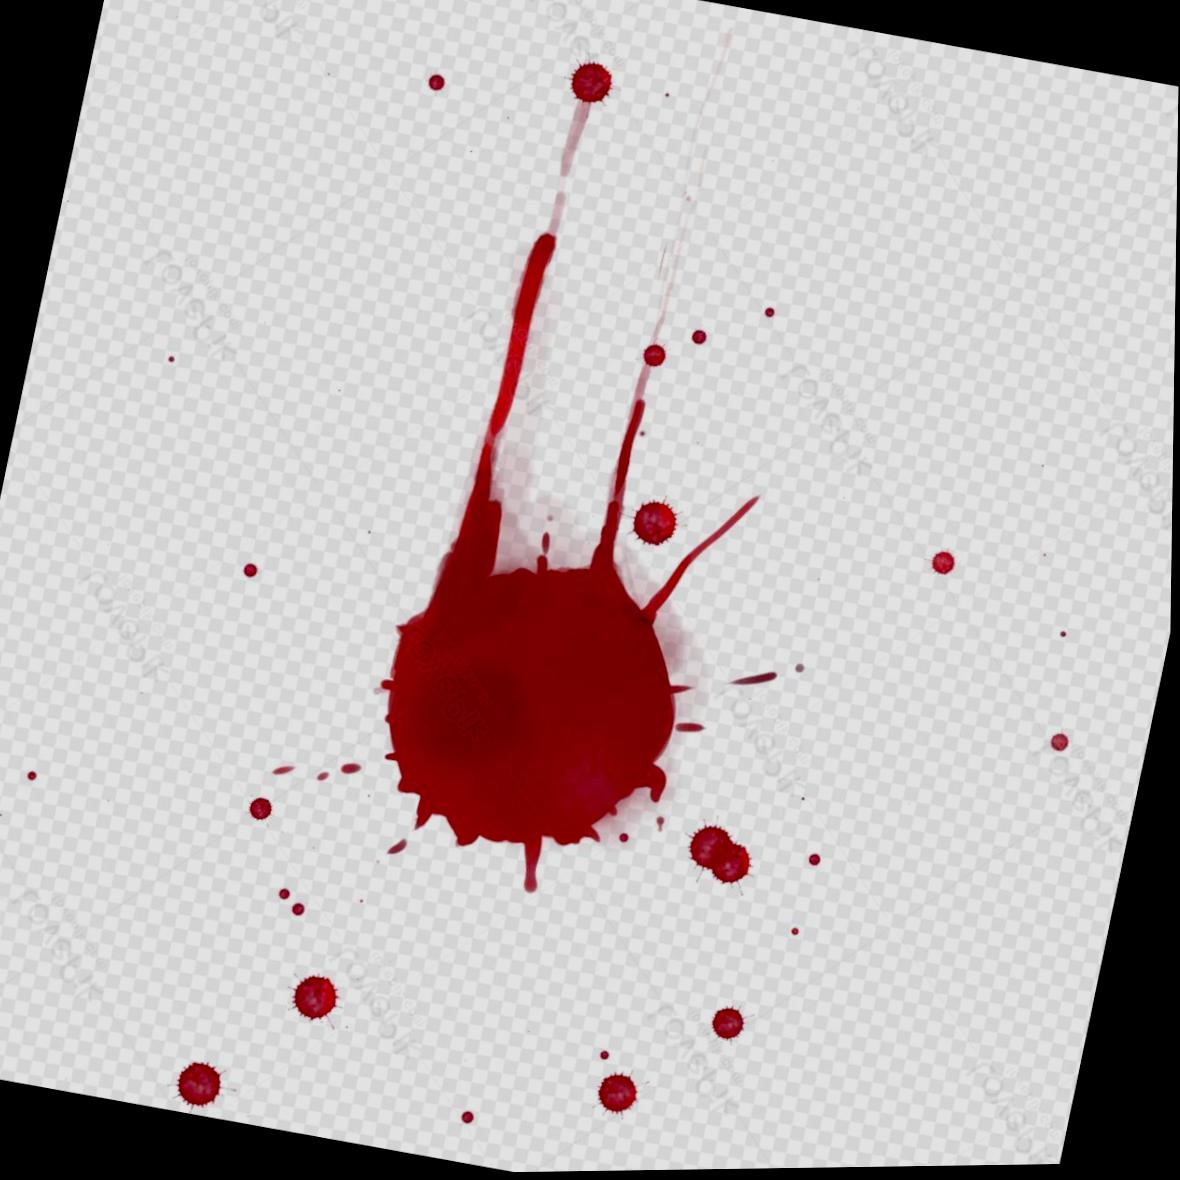Fire: (375, 233, 762, 896), (688, 827, 754, 887), (294, 975, 341, 1022), (178, 1062, 225, 1111), (633, 502, 679, 548), (567, 64, 613, 106), (600, 1075, 641, 1117), (714, 1009, 748, 1045), (250, 799, 274, 821)
